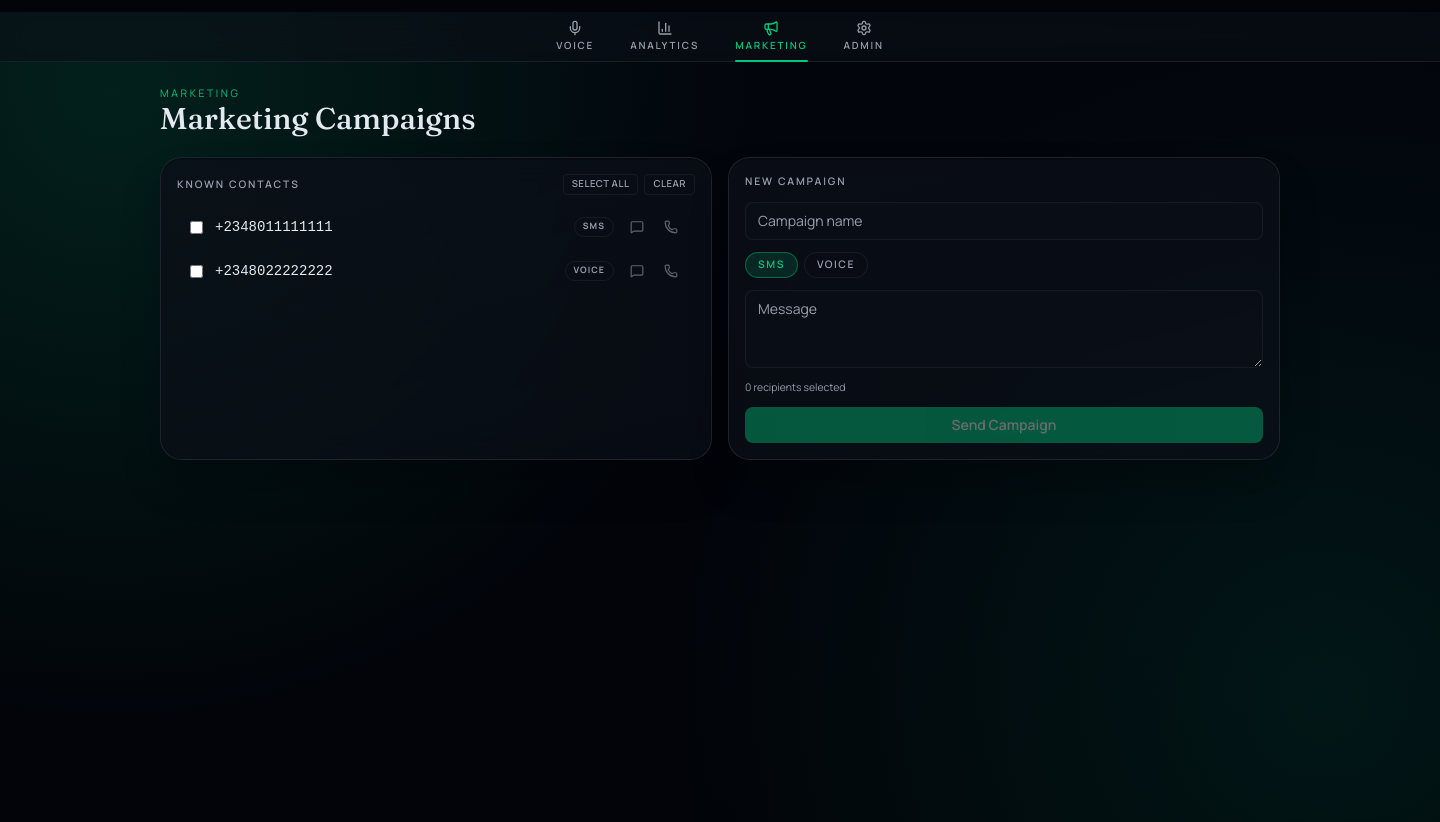
Test case: MarketingDashboard › Select All selects all contacts
The width and height of the screenshot is (1440, 822).
Expected: the text "+2348011111111" is shown, [215,219,333,235]
Click the button "Select All" at (601, 185), box [563,174,638,195]
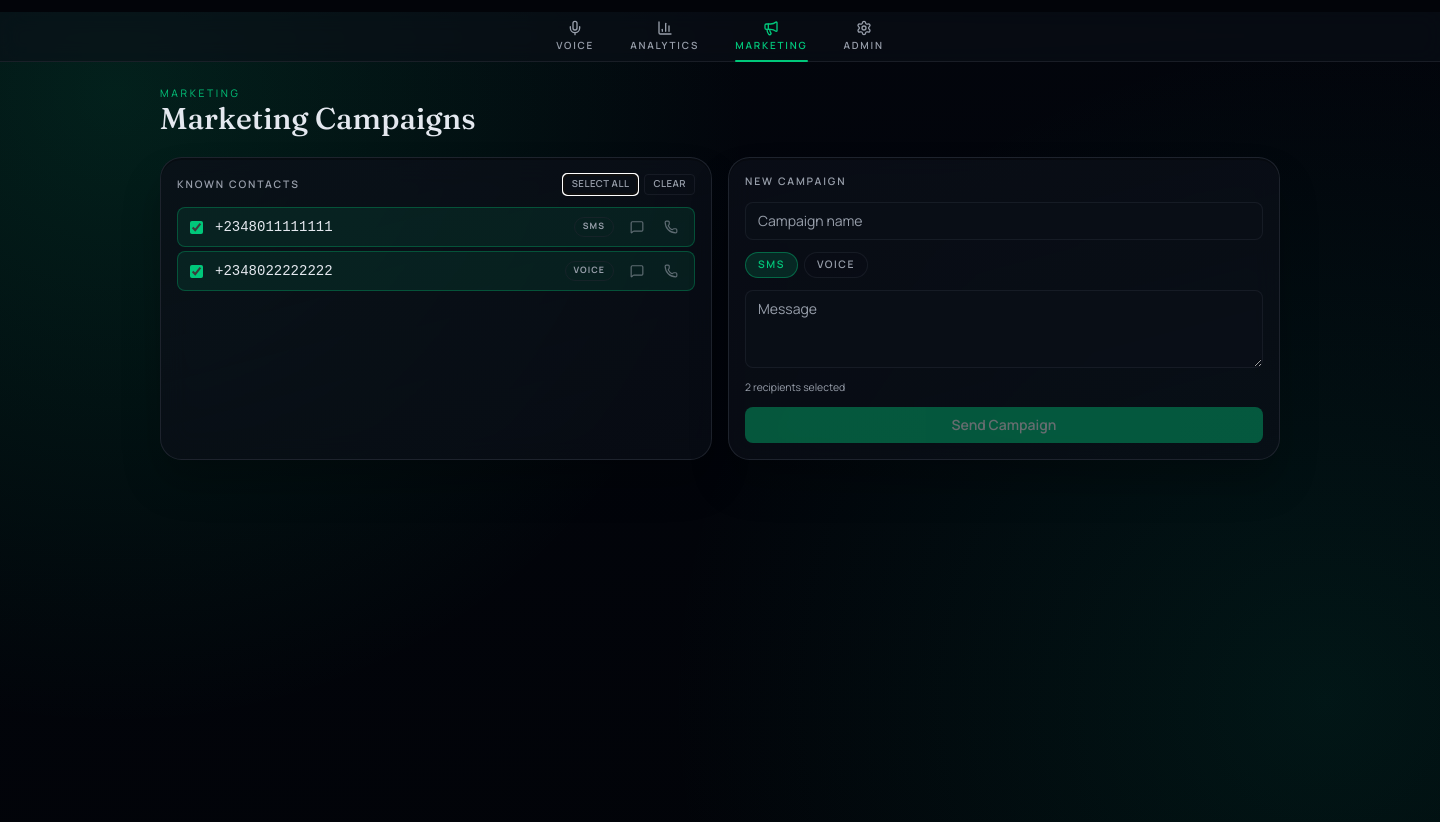
Result: the text "2 recipients selected" is shown at [745,380,845,394]
